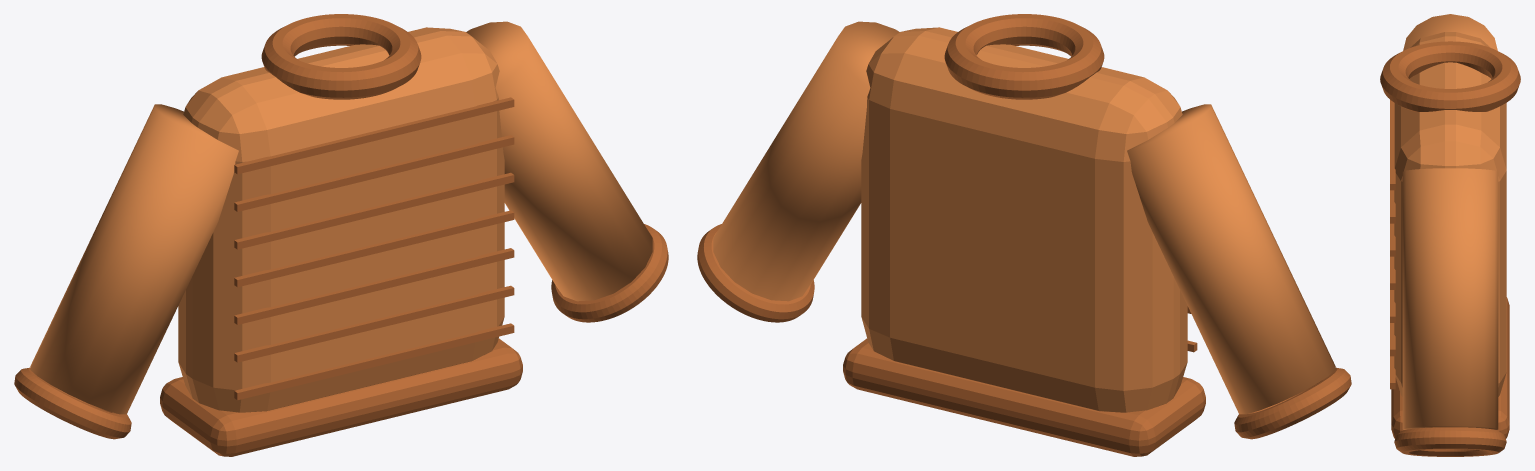
File: sueter_cobre.glb
3 renders of one model, left to right at view 1: azimuth 30°, elevation 25°; view 2: azimuth 150°, elevation 25°; view 3: azimuth 270°, elevation 25°, orthographic. The views are drawn at different scales.
Parts seen in each view (by area): view 1: Cube, Cylinder, Cylinder.001, Cube.001, Torus.006, Torus.005, Torus.004, Cube.008, Cube.004, Cube.007, Cube.002, Cube.005 (+2 smaller); view 2: Cube, Cylinder, Cylinder.001, Cube.001, Torus.006, Torus.005, Torus.004; view 3: Cylinder.001, Cube, Torus.006, Torus.005, Cylinder, Cube.001, Cube.008, Cube.002, Cube.003, Cube.007, Cube.006, Cube.005 (+1 smaller).
Boxes of the visible parts, <box> form: Cube: <box>178,27,504,412</box>; Cylinder: <box>30,104,238,414</box>; Cylinder.001: <box>466,21,652,301</box>; Cube.001: <box>160,338,522,456</box>; Torus.006: <box>261,14,421,99</box>; Torus.005: <box>551,224,668,322</box>; Torus.004: <box>14,367,131,439</box>; Cube.008: <box>234,97,514,174</box>; Cube.004: <box>234,248,514,324</box>; Cube.007: <box>234,135,514,211</box>; Cube.002: <box>234,323,514,400</box>; Cube.005: <box>234,210,514,287</box>; Cube: <box>861,27,1187,412</box>; Cylinder: <box>1127,104,1335,414</box>; Cylinder.001: <box>713,21,899,301</box>; Cube.001: <box>843,338,1205,456</box>; Torus.006: <box>944,14,1104,99</box>; Torus.005: <box>697,224,814,322</box>; Torus.004: <box>1234,367,1351,439</box>; Cylinder.001: <box>1402,168,1498,429</box>; Cube: <box>1394,32,1506,396</box>; Torus.006: <box>1380,41,1520,111</box>; Torus.005: <box>1394,427,1506,456</box>; Cylinder: <box>1403,14,1497,50</box>; Cube.001: <box>1391,297,1509,438</box>; Cube.008: <box>1390,100,1395,190</box>; Cube.002: <box>1390,356,1395,389</box>; Cube.003: <box>1390,323,1395,356</box>; Cube.007: <box>1390,190,1395,223</box>; Cube.006: <box>1390,223,1395,256</box>; Cube.005: <box>1390,256,1395,289</box>.
Size of the model in its own units: 2.3 by 1.25 by 0.5.
